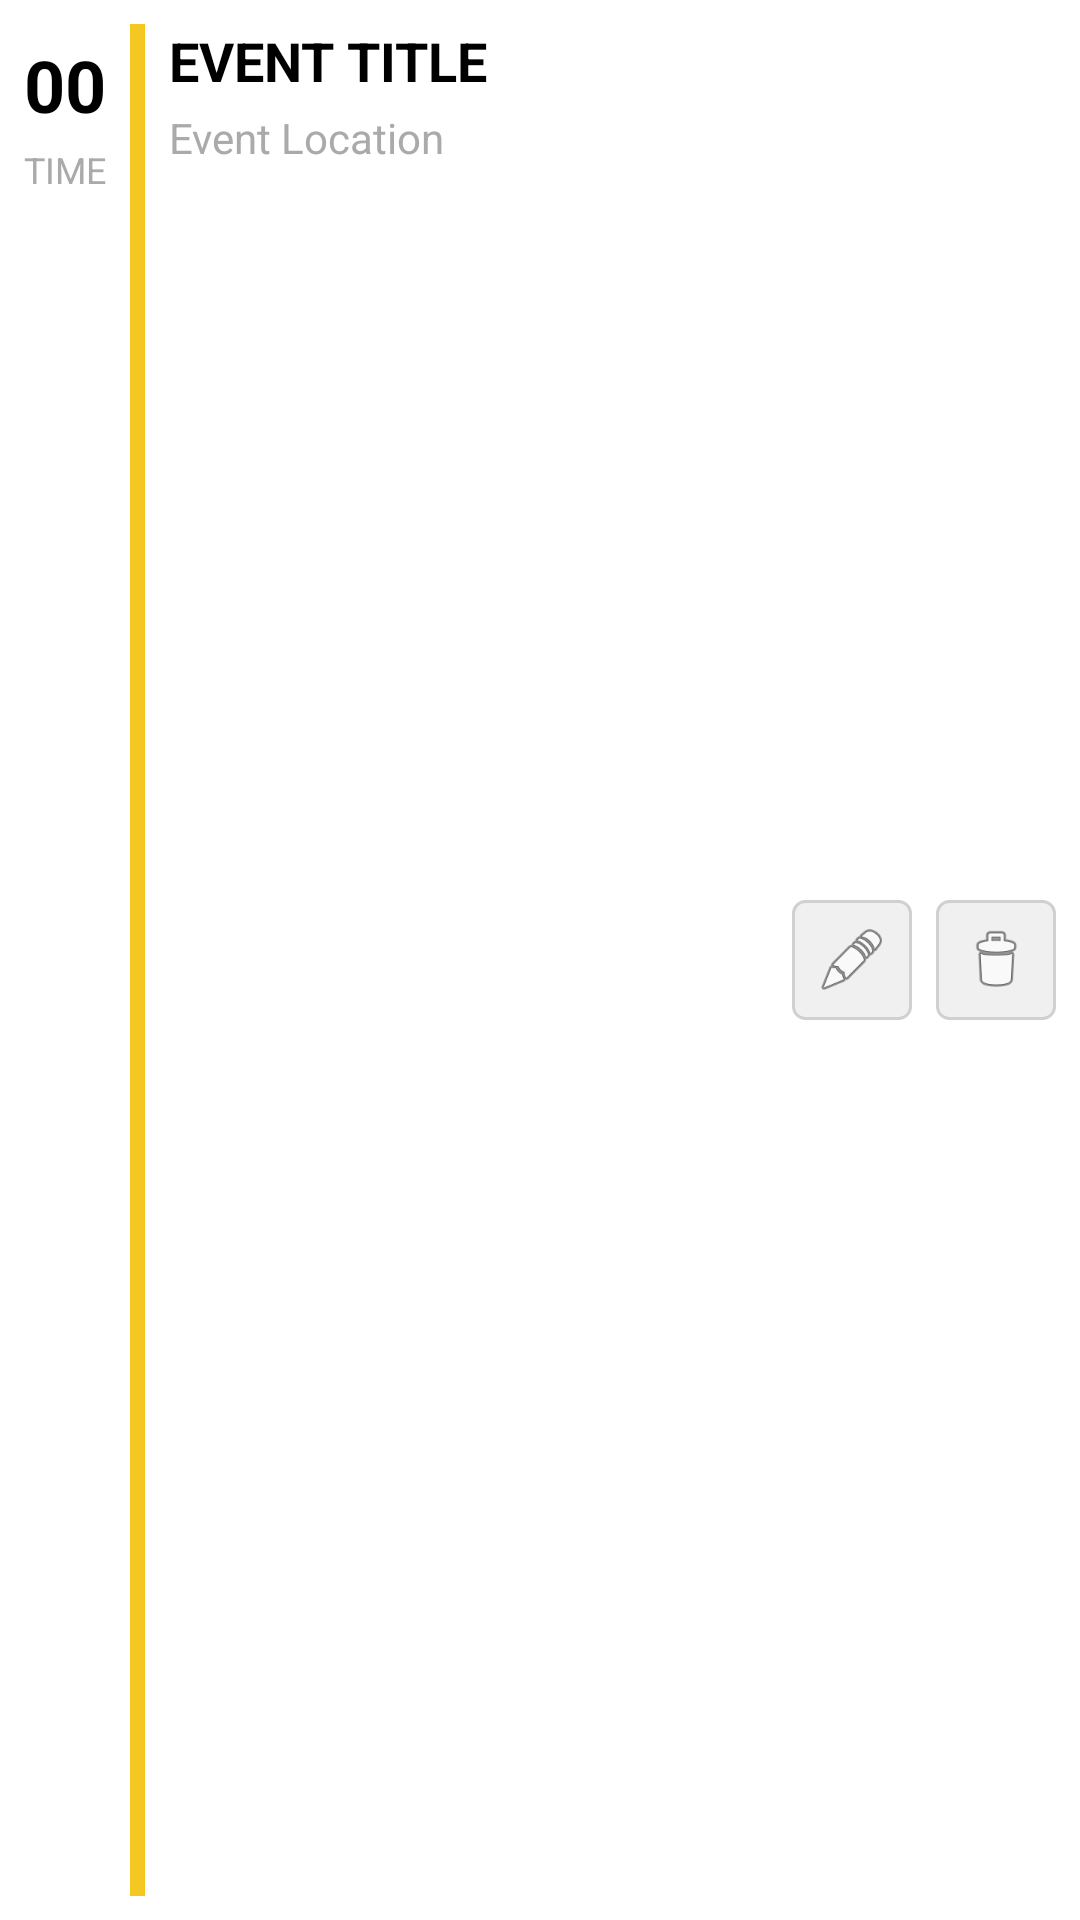

Icons on this 1080w x 1920h Android screen, each with its box as (x1, y1, x2, y2):
Delete Event: (936, 900, 1056, 1020)
Edit Event: (792, 900, 912, 1020)
